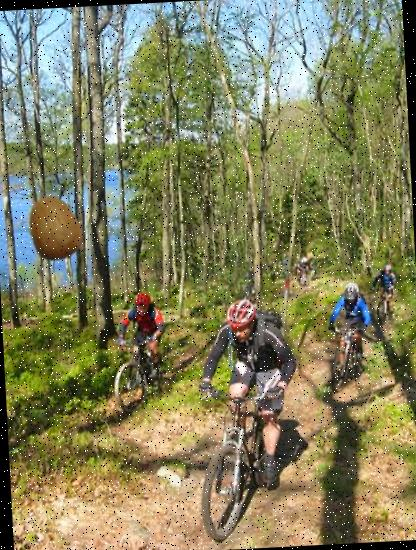Kiwi: (18, 190, 91, 263)
